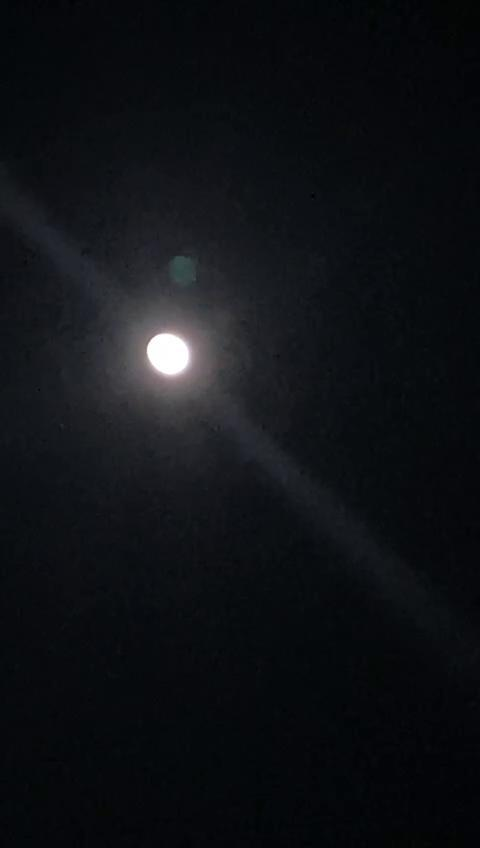moon: (145, 326, 203, 383)
